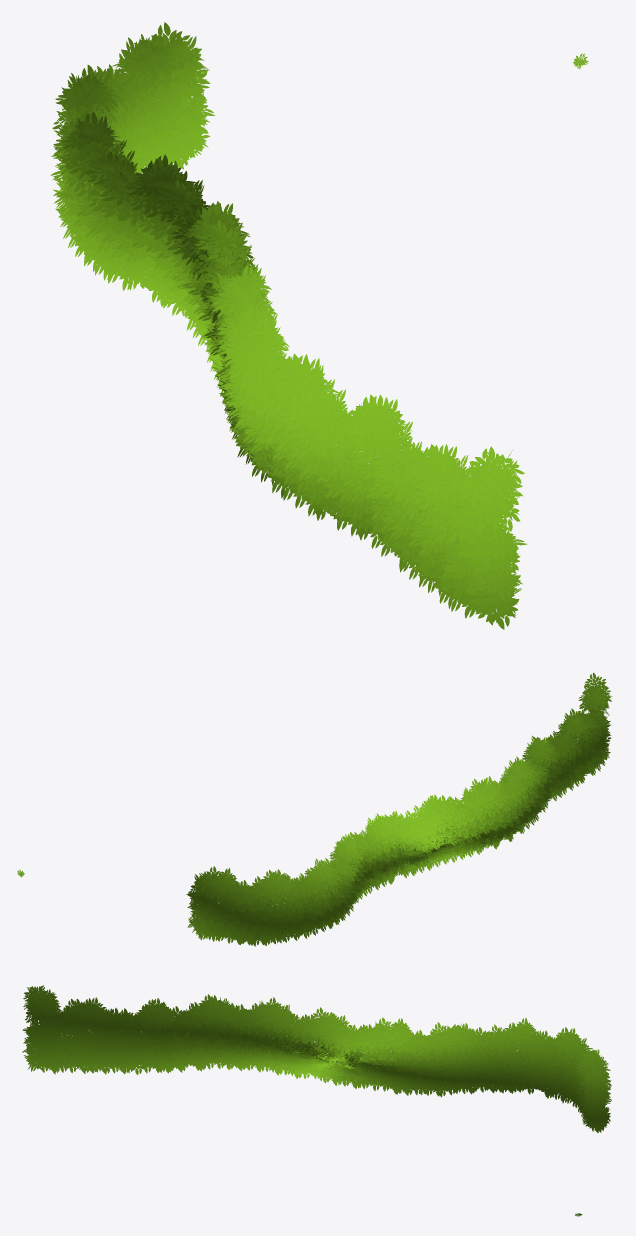
File: heDGE TEST.fbx
3 views of the same model, one above another, from view 1: azimuth 30°, elevation 25°; view 2: azimuth 150°, elevation 25°; view 3: azimuth 270°, elevation 25° (orthographic). The views are drawn at different scales.
Visible parts, largest first — view 1: heDGE; view 2: heDGE; view 3: heDGE.
Boxes of the visible parts, x1,y1,x2,y2 form: heDGE: (50,22,588,629); heDGE: (17,672,612,946); heDGE: (22,985,611,1216).
Size of the model in its own units: 1985 by 518 by 3018.
1 material, 1 textured.
